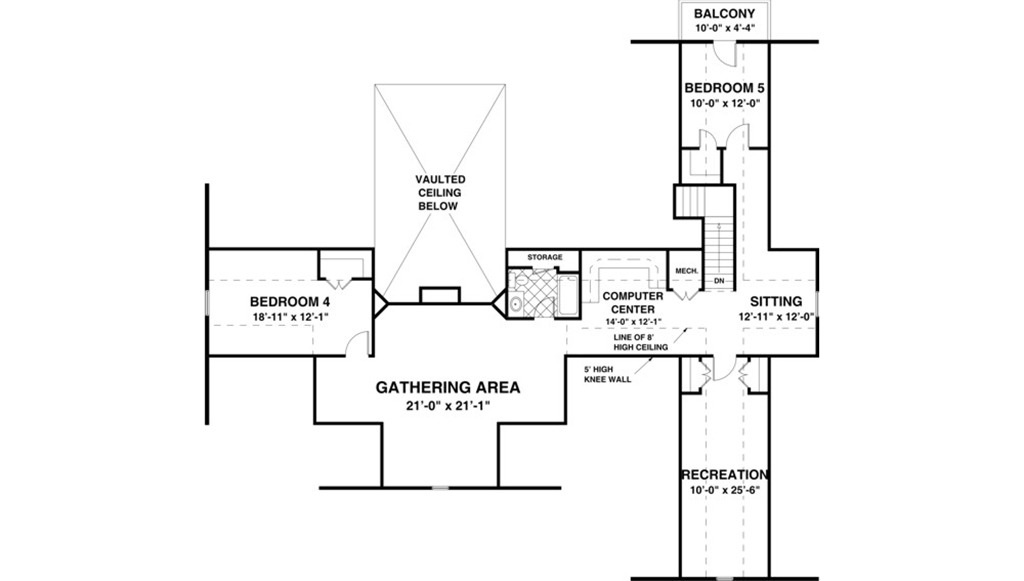door: (345, 329, 373, 358), (709, 352, 736, 382), (712, 38, 738, 69), (727, 122, 750, 152), (698, 128, 720, 149), (322, 277, 352, 290)
large_sink: (506, 272, 529, 289)
small_sink: (506, 290, 523, 318)
stairs: (672, 184, 735, 290)
tub: (555, 273, 581, 318)
windows: (813, 288, 822, 322), (203, 287, 211, 318)
